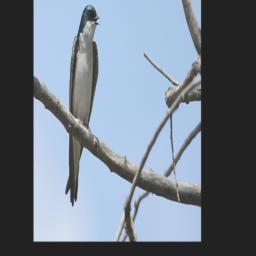Swallow: (65, 5, 101, 207)
